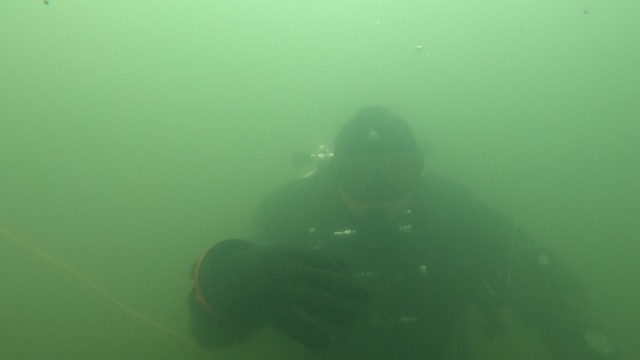Diver: (182, 100, 613, 353)
Hand: (219, 232, 374, 345)
Head: (329, 98, 433, 244)
